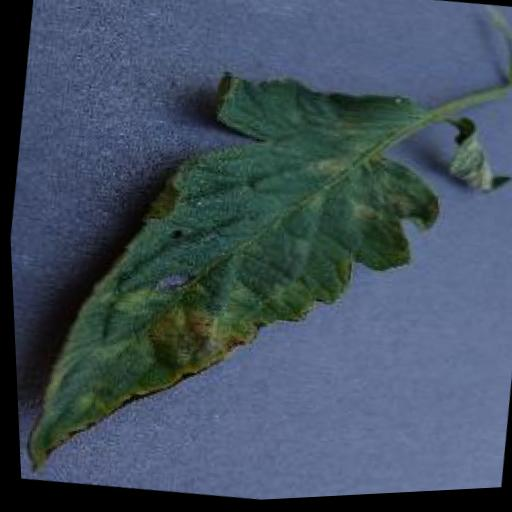Leaf Mold: (2, 38, 464, 512)
